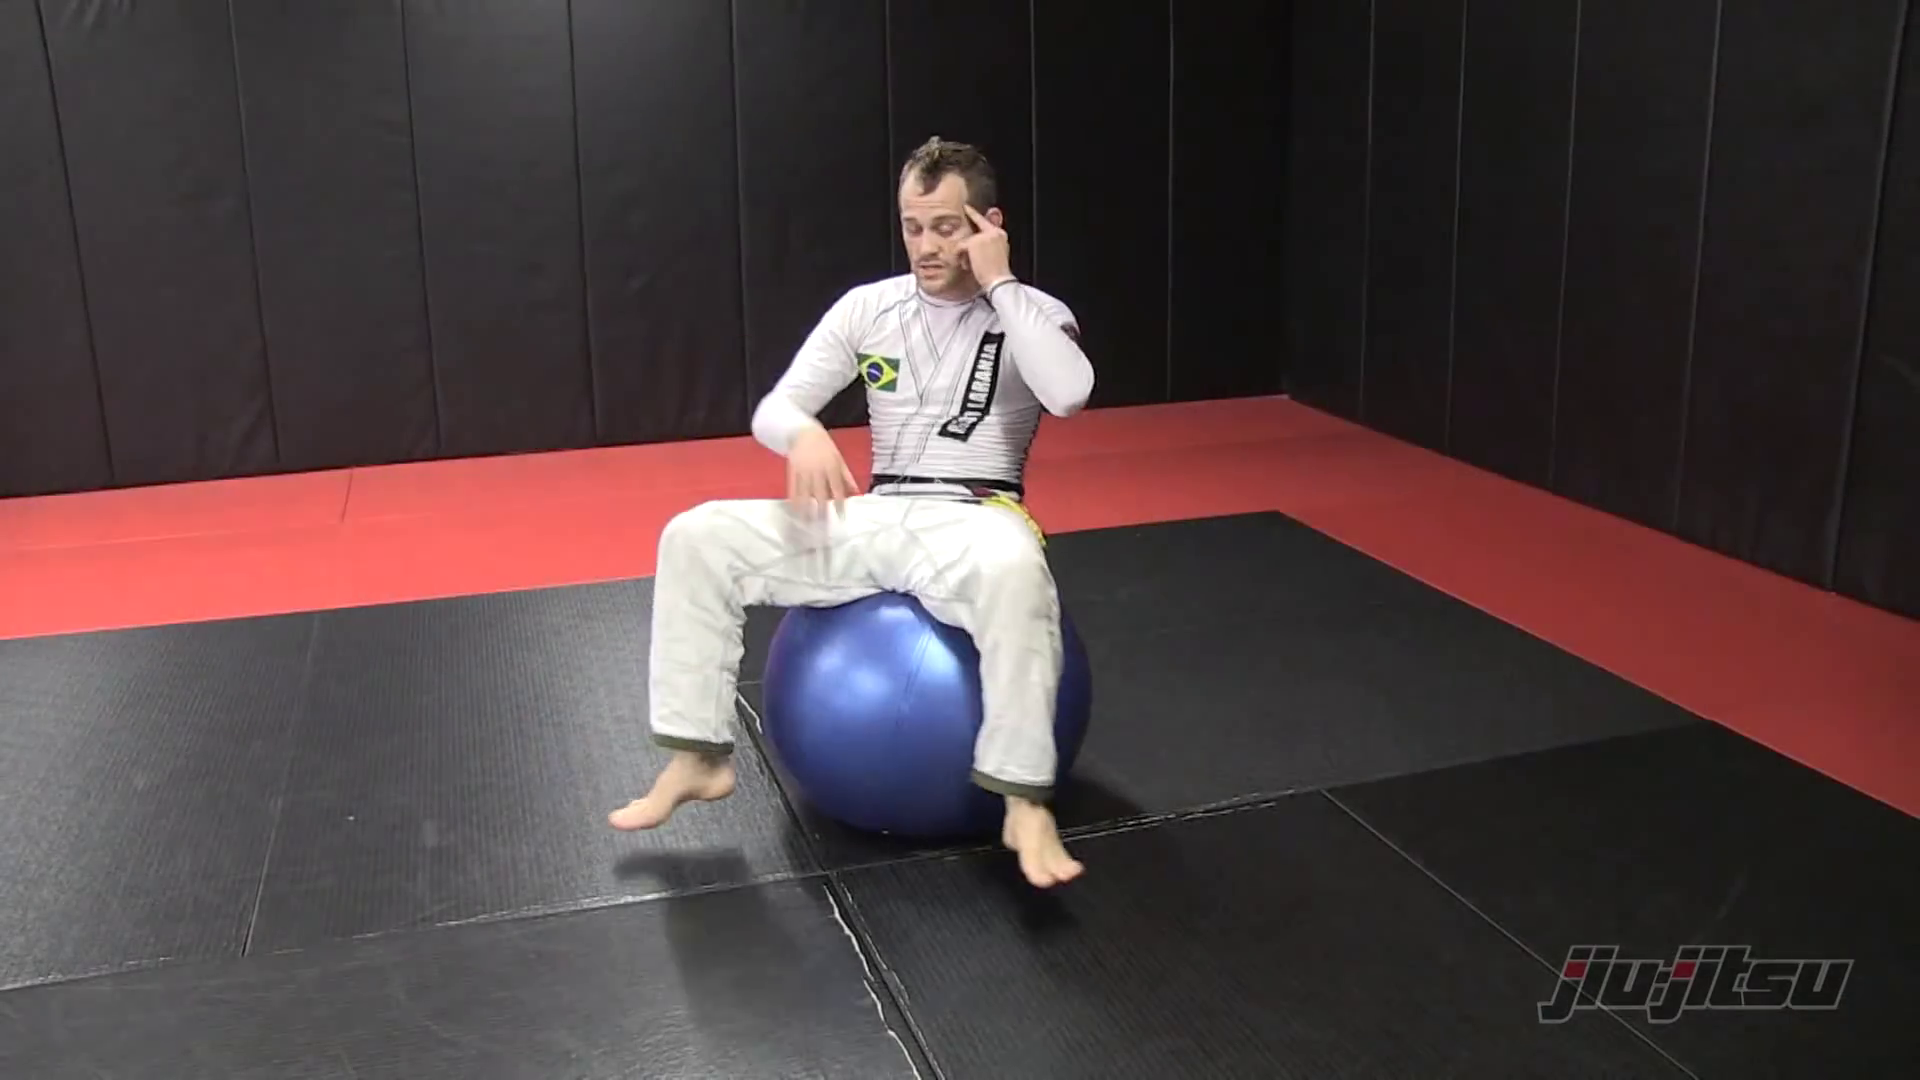yogaball: (749, 574, 1100, 855)
